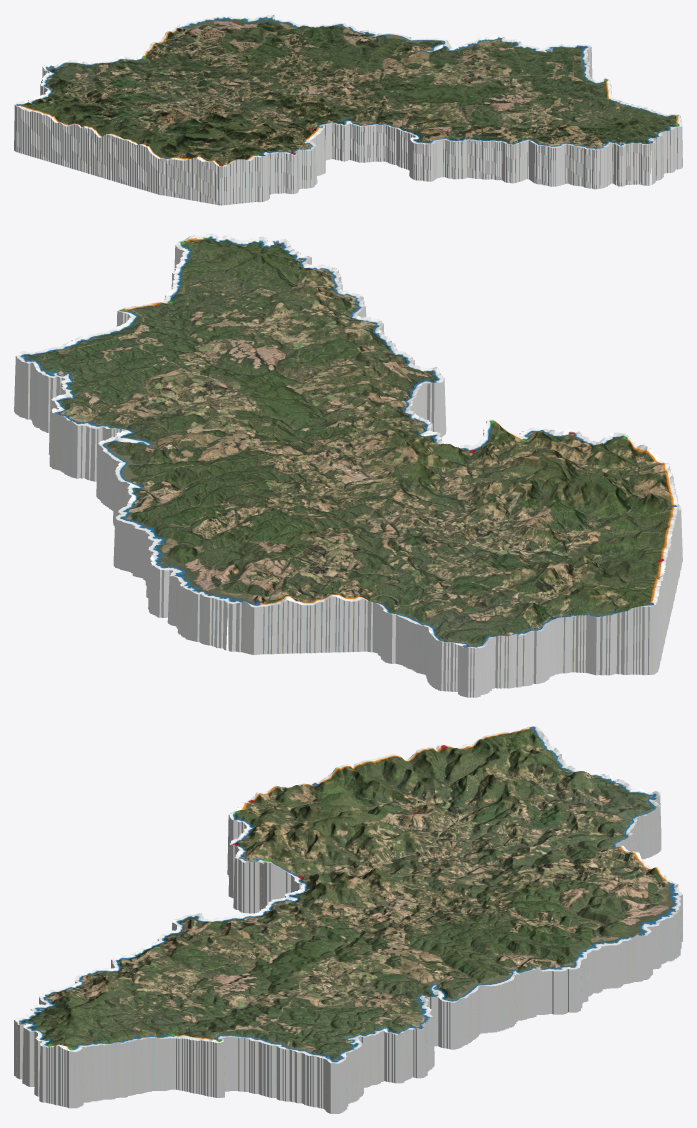
3 renders of one model, top to bottom at view 1: azimuth 30°, elevation 25°; view 2: azimuth 150°, elevation 25°; view 3: azimuth 270°, elevation 25°, orthographic. The views are drawn at different scales.
Bounding box in the file's own units: 1 × 0.0913 × 0.8636.
Materials: 1 (1 with a texture image).
